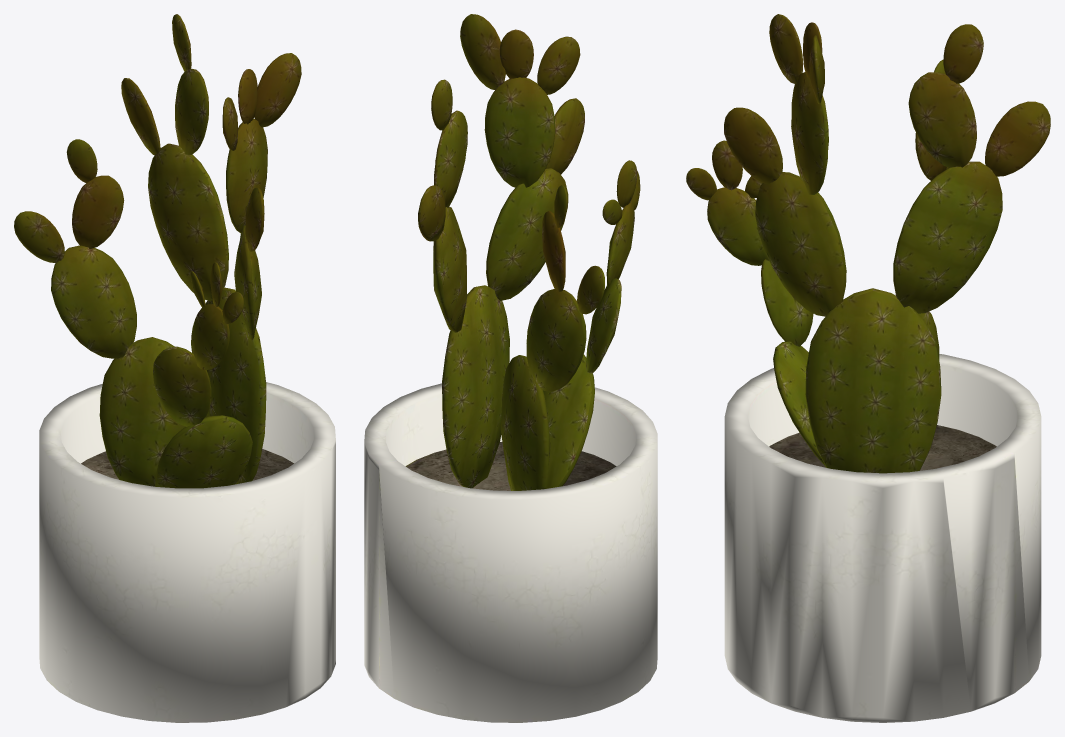
Rendered from prickly-pear-0.glb.
3 views of the same model, side by side, from view 1: azimuth 30°, elevation 25°; view 2: azimuth 150°, elevation 25°; view 3: azimuth 270°, elevation 25° (orthographic). The views are drawn at different scales.
Parts seen in each view (by area): view 1: Plane.021__0; view 2: Plane.021__0; view 3: Plane.021__0.
Part boxes in pixels (x1,y1,x2,y2): Plane.021__0: (14, 14, 335, 722); Plane.021__0: (364, 14, 657, 722); Plane.021__0: (686, 14, 1050, 722).
Bounding box in the file's own units: 382 × 852 × 431.
1 material, 1 textured.
